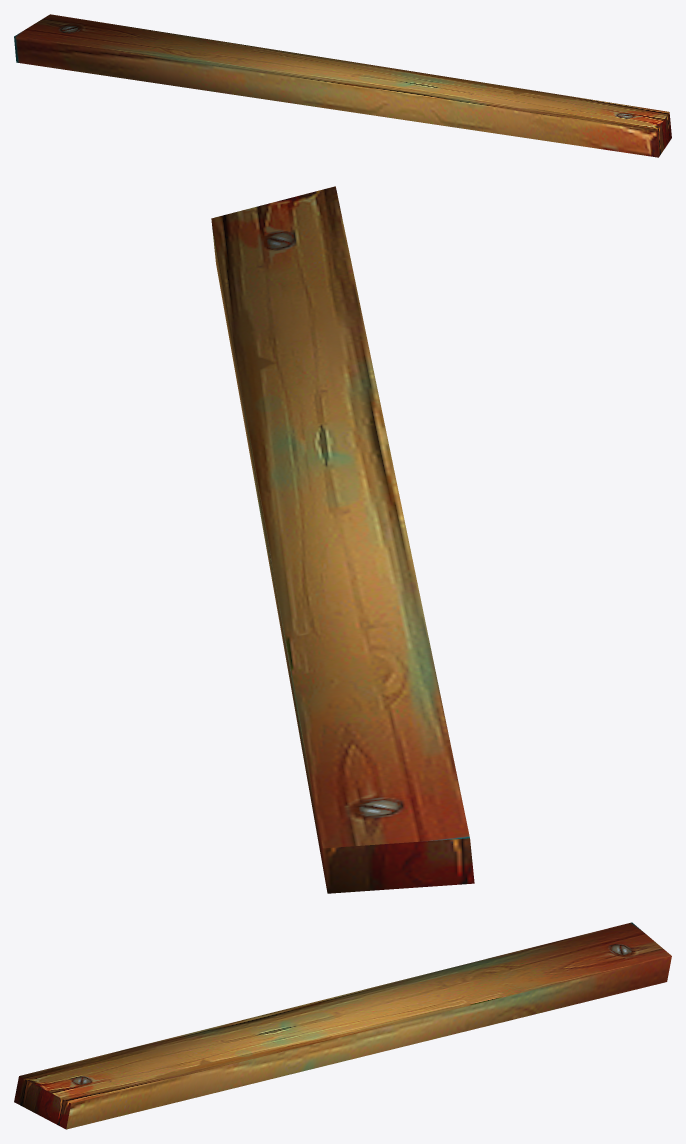
The model's file is muban05.FBX.
The picture shows the model from 3 angles, top to bottom: view 1: azimuth 30°, elevation 25°; view 2: azimuth 150°, elevation 25°; view 3: azimuth 270°, elevation 25°; orthographic projection. The views are drawn at different scales.
Parts seen in each view (by area): view 1: Object034; view 2: Object034; view 3: Object034.
Part boxes in pixels (x1,y1,x2,y2): Object034: (14,14,671,157); Object034: (211,186,474,893); Object034: (14,922,671,1129).
Bounding box in the file's own units: 10427 × 1474 × 14202.
